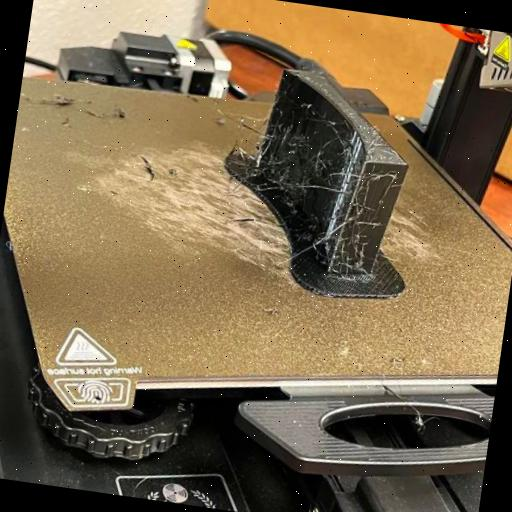stringing: (332, 158, 385, 276), (238, 127, 326, 196)
